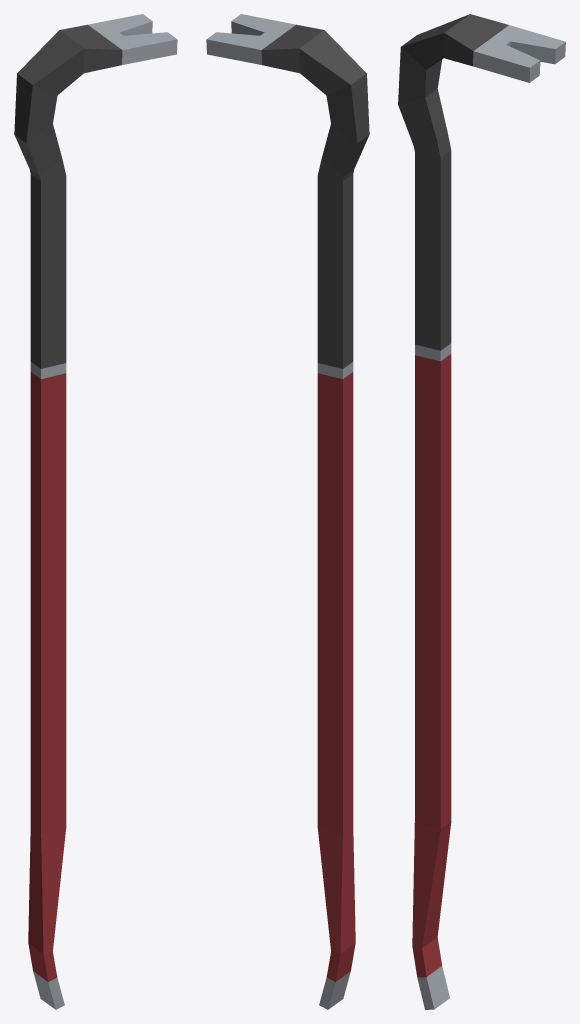
Rendered from crowbar.fbx.
The picture shows the model from 3 angles, left to right: view 1: azimuth 30°, elevation 25°; view 2: azimuth 150°, elevation 25°; view 3: azimuth 330°, elevation 25°; orthographic projection. The views are drawn at different scales.
Visible parts, largest first — view 1: Cube; view 2: Cube; view 3: Cube.
Boxes of the visible parts, x1,y1,x2,y2 form: Cube: [14, 14, 177, 1009]; Cube: [206, 14, 369, 1009]; Cube: [398, 14, 565, 1009].
Size of the model in its own units: 10.52 by 68.99 by 4.53.
